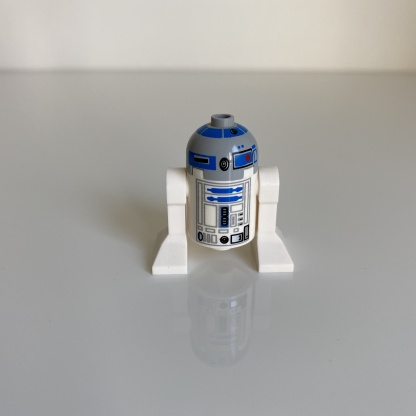r2d2: (152, 113, 294, 274)
